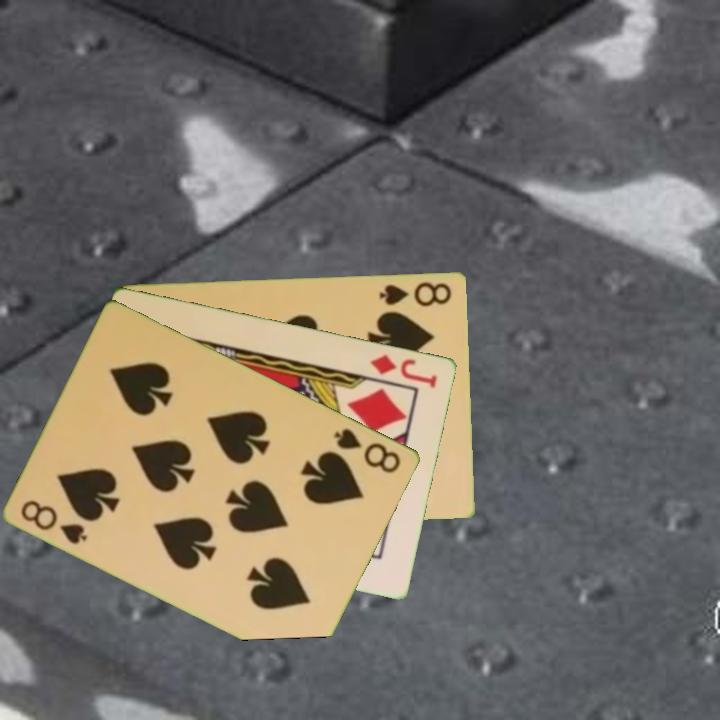8s: (331, 424, 405, 476), (18, 496, 91, 547), (376, 278, 455, 309)
Jd: (367, 350, 441, 391)
